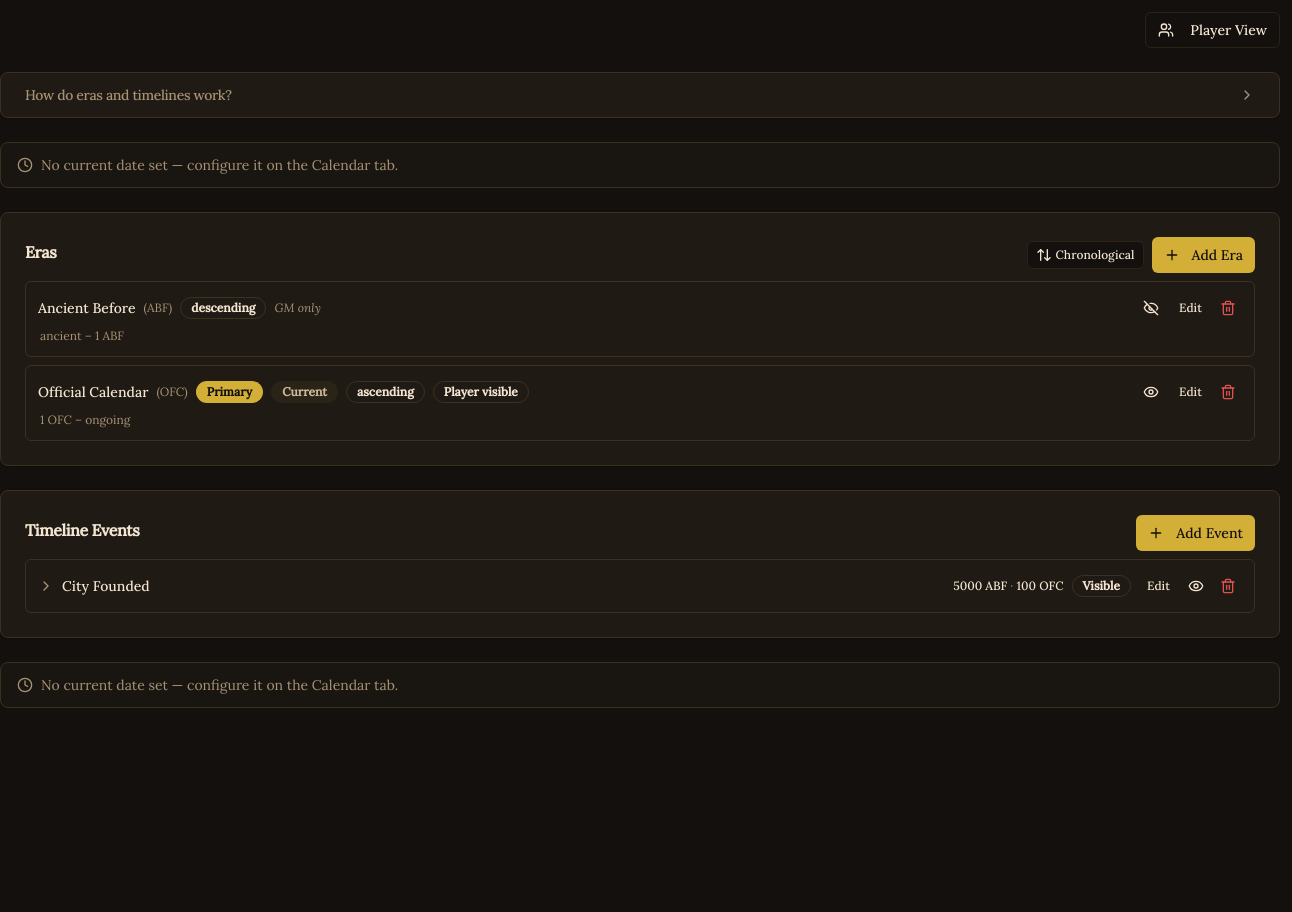
Test: TimelineTab — player view strips GM-only era dates › player view toggle hides dates from GM-only eras
The width and height of the screenshot is (1292, 912).
Click the button "Player View" at (1213, 30), box [1145, 12, 1280, 48]
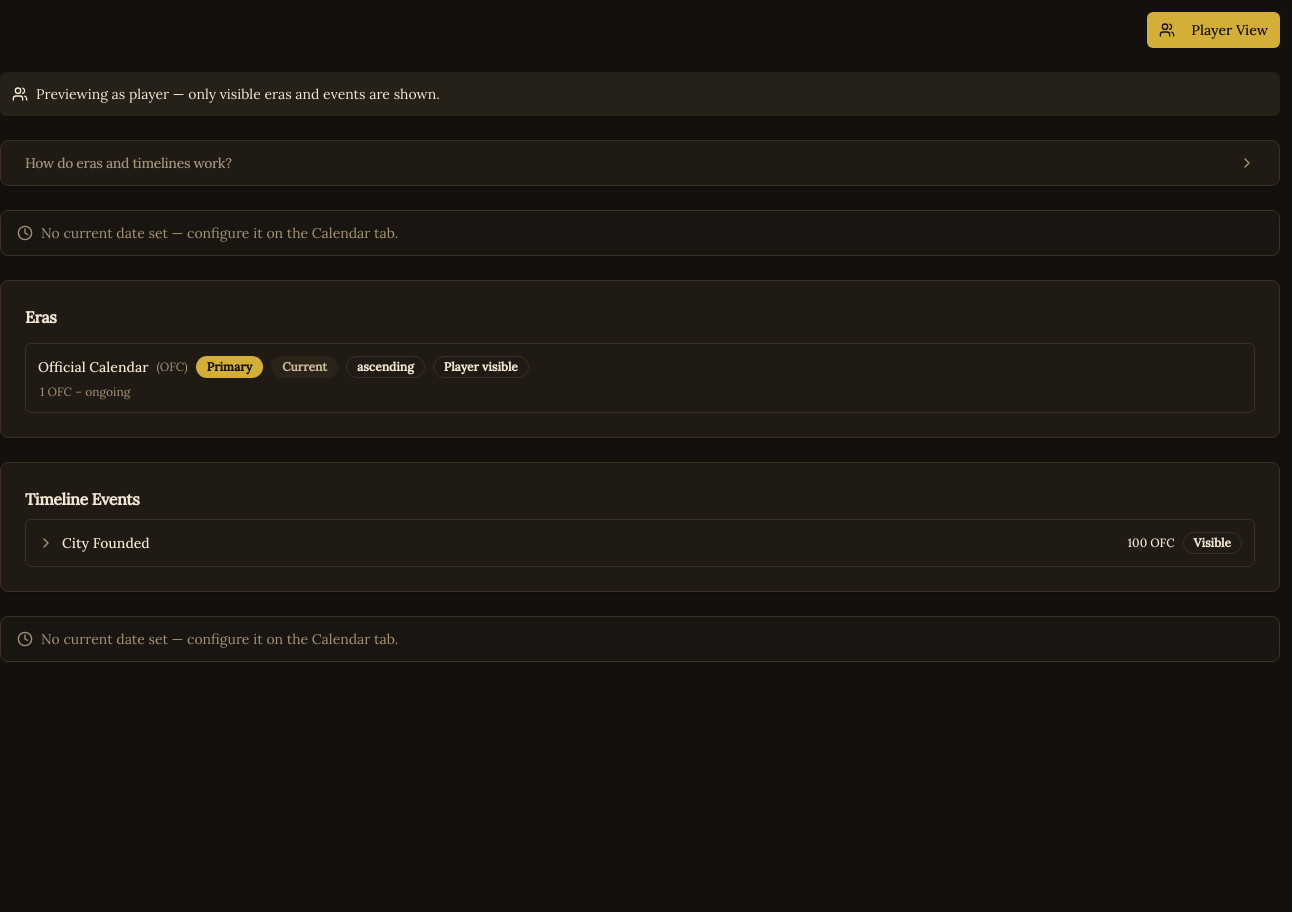
Expected: the text "City Founded" is shown, [62, 534, 150, 552]
Now the text "5000 ABF" is gone
